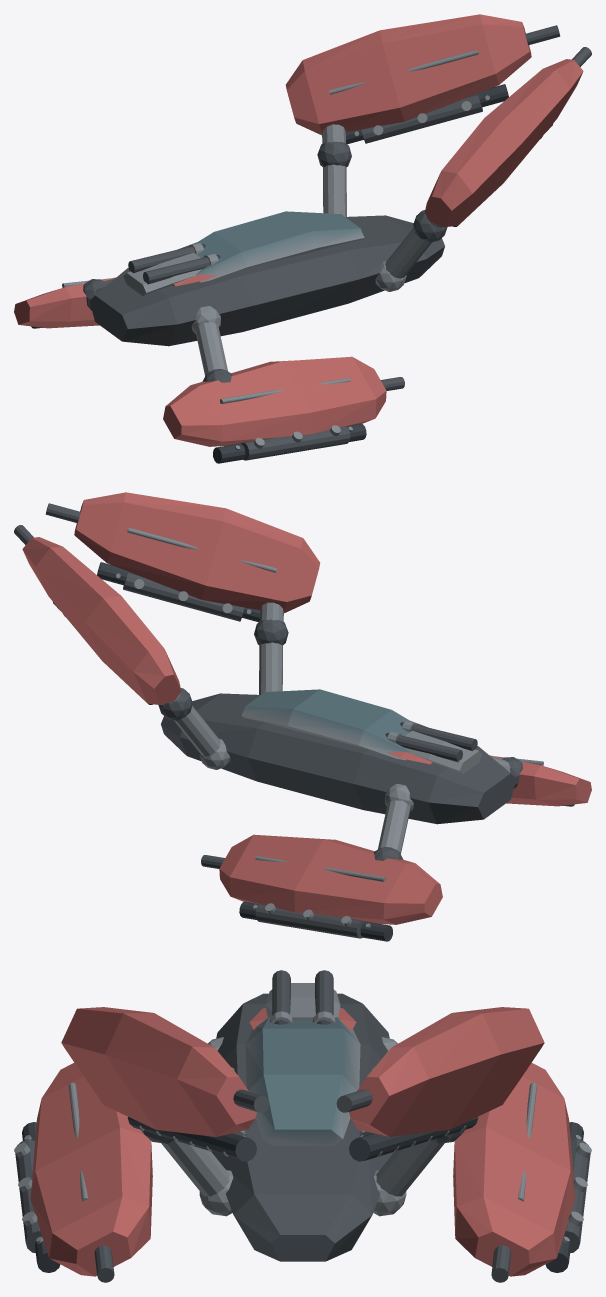
File: x5_red_attack_flight.glb
3 views of the same model, one above another, from view 1: azimuth 30°, elevation 25°; view 2: azimuth 150°, elevation 25°; view 3: azimuth 270°, elevation 25° (orthographic). The views are drawn at different scales.
Parts seen in each view (by area): view 1: pod_armor_10, center_hull_0, cabin_base_1, mechanical_arms_8, pod_mechanics_13, outer_joint_9, missile_body_3, inner_drive_rail_15, launcher_saddle_2, pod_rail_11, inner_joint_7, forward_gun_12; view 2: pod_armor_10, center_hull_0, cabin_base_1, mechanical_arms_8, pod_mechanics_13, outer_joint_9, missile_body_3, inner_drive_rail_15, launcher_saddle_2, pod_rail_11, inner_joint_7, forward_gun_12; view 3: pod_armor_10, center_hull_0, cabin_base_1, inner_drive_rail_15, mechanical_arms_8, pod_mechanics_13, forward_gun_12, missile_body_3, inner_joint_7, launcher_saddle_2, pod_rail_11, mechanical_crossbeam_14 (+1 smaller).
Part boxes in pixels (<box>): pod_armor_10: <box>14,14,583,446</box>; center_hull_0: <box>89,215,444,346</box>; cabin_base_1: <box>196,211,364,282</box>; mechanical_arms_8: <box>95,124,442,376</box>; pod_mechanics_13: <box>241,94,482,460</box>; outer_joint_9: <box>83,141,447,382</box>; missile_body_3: <box>128,244,218,284</box>; inner_drive_rail_15: <box>31,84,552,463</box>; launcher_saddle_2: <box>123,252,201,295</box>; pod_rail_11: <box>62,49,478,403</box>; inner_joint_7: <box>191,260,406,333</box>; forward_gun_12: <box>380,25,591,390</box>; pod_armor_10: <box>22,492,591,924</box>; center_hull_0: <box>161,693,516,824</box>; cabin_base_1: <box>241,689,410,760</box>; mechanical_arms_8: <box>163,602,510,854</box>; pod_mechanics_13: <box>123,572,364,938</box>; outer_joint_9: <box>158,619,522,860</box>; missile_body_3: <box>387,722,477,762</box>; inner_drive_rail_15: <box>53,562,574,941</box>; launcher_saddle_2: <box>405,730,482,773</box>; pod_rail_11: <box>127,527,543,881</box>; inner_joint_7: <box>199,738,413,811</box>; forward_gun_12: <box>14,503,225,868</box>; pod_armor_10: <box>30,1007,575,1276</box>; center_hull_0: <box>212,993,393,1261</box>; cabin_base_1: <box>245,1017,360,1145</box>; inner_drive_rail_15: <box>22,1117,583,1272</box>; mechanical_arms_8: <box>161,1140,444,1196</box>; pod_mechanics_13: <box>15,1131,590,1253</box>; forward_gun_12: <box>94,1089,511,1282</box>; missile_body_3: <box>272,970,333,1023</box>; inner_joint_7: <box>199,1037,406,1216</box>; launcher_saddle_2: <box>265,983,340,1020</box>; pod_rail_11: <box>68,1067,537,1201</box>; mechanical_crossbeam_14: <box>14,1130,591,1226</box>.
Size of the model in its own units: 6.03 by 3.3 by 4.32.
